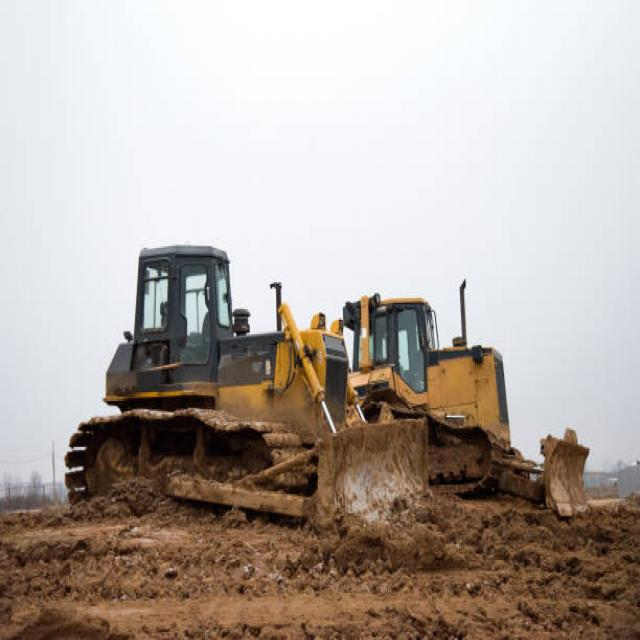Bulldozer: (63, 246, 426, 530), (343, 289, 594, 514)
